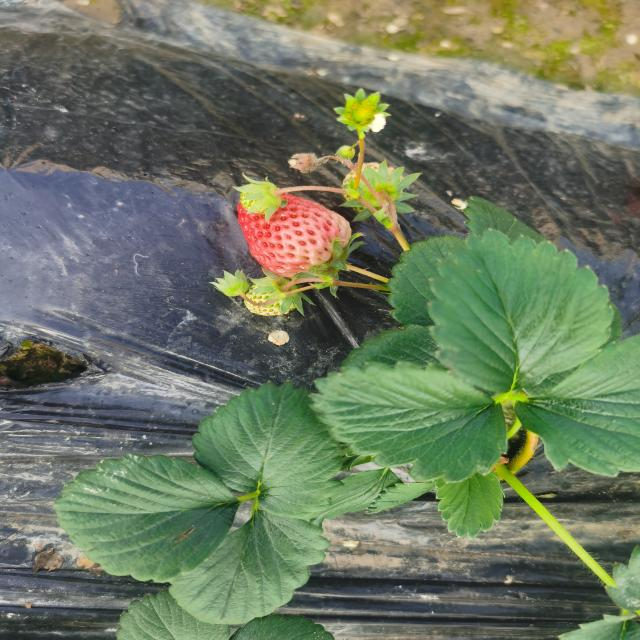stem: (337, 262, 386, 282)
strawberry: (237, 193, 351, 278)
